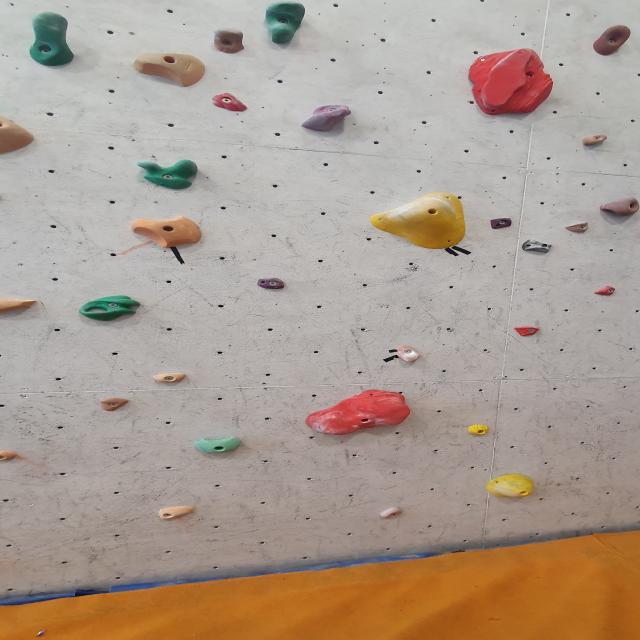Crimp: (207, 90, 253, 113), (152, 504, 198, 522), (95, 394, 137, 413), (150, 371, 196, 385), (254, 276, 290, 291), (485, 215, 517, 231), (560, 222, 596, 236), (373, 505, 408, 519), (511, 324, 541, 340), (580, 134, 614, 148), (591, 284, 619, 300), (466, 423, 490, 437)
Jug: (23, 11, 81, 68), (258, 1, 314, 48), (134, 160, 202, 193), (590, 23, 631, 57), (211, 23, 245, 54)
Pinch: (130, 214, 210, 249), (299, 103, 354, 133), (188, 435, 247, 455), (517, 237, 557, 256), (0, 450, 19, 462)
Pocket: (72, 295, 145, 323)
Sloper: (466, 47, 560, 117), (366, 191, 472, 252), (301, 390, 417, 438), (128, 52, 210, 90), (0, 110, 38, 162), (484, 472, 536, 499), (597, 197, 640, 219), (398, 347, 424, 364)
